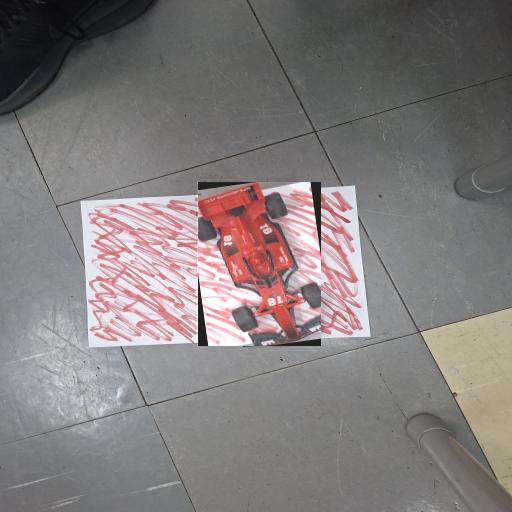carro: (196, 183, 319, 346)
